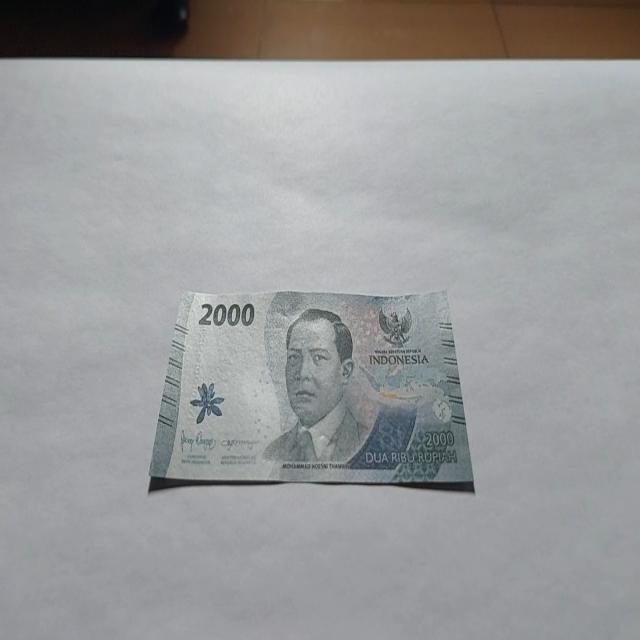dua ribu rupiah: (148, 286, 474, 491), (262, 305, 372, 467)
